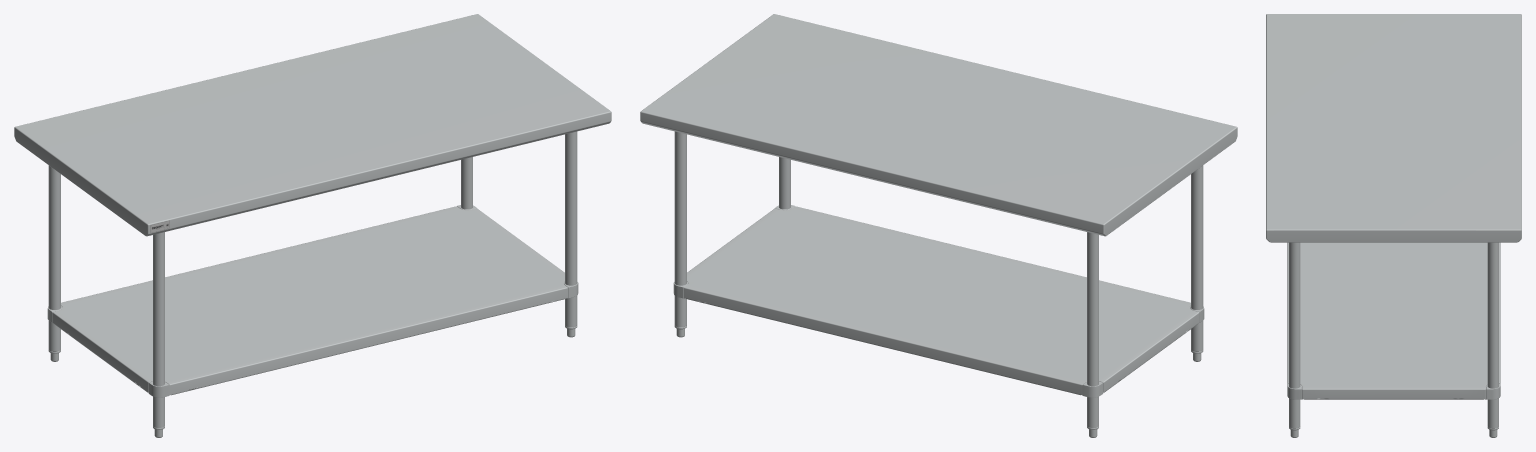
3 renders of one model, left to right at view 1: azimuth 30°, elevation 25°; view 2: azimuth 150°, elevation 25°; view 3: azimuth 270°, elevation 25°, orthographic. The views are drawn at different scales.
Parts seen in each view (by area): view 1: Stainless worktable assembly; view 2: Stainless worktable assembly; view 3: Stainless worktable assembly.
Boxes of the visible parts, x1,y1,x2,y2 form: Stainless worktable assembly: (14, 14, 611, 437); Stainless worktable assembly: (640, 14, 1237, 437); Stainless worktable assembly: (1266, 14, 1521, 437).
Size of the model in its own units: 1.83 by 0.8636 by 0.9144.
2 materials, 2 textured.
